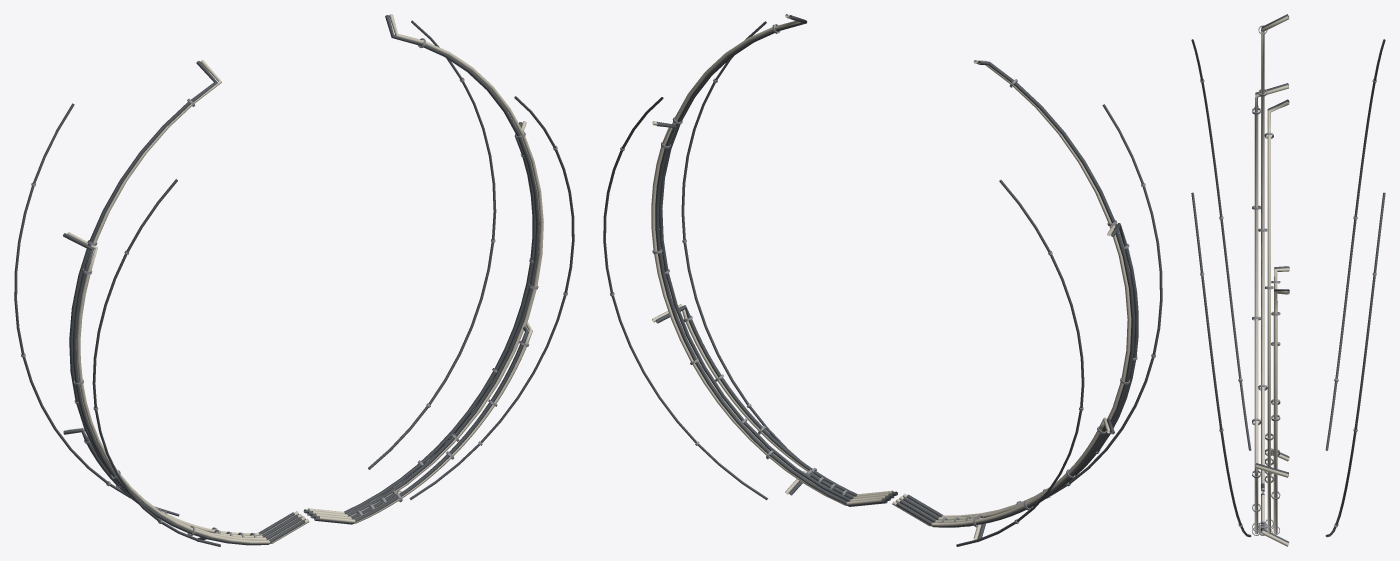
The model's file is er1_harness.obj.
3 renders of one model, left to right at view 1: azimuth 30°, elevation 25°; view 2: azimuth 150°, elevation 25°; view 3: azimuth 270°, elevation 25°, orthographic. The views are drawn at different scales.
Parts seen in each view (by area): view 1: er1_harness; view 2: er1_harness; view 3: er1_harness.
Part boxes in pixels (bbox=[...]): er1_harness: bbox=[14, 14, 574, 546]; er1_harness: bbox=[603, 14, 1162, 546]; er1_harness: bbox=[1191, 14, 1385, 546].
Size of the model in its own units: 2.26 by 2.18 by 0.8535.
